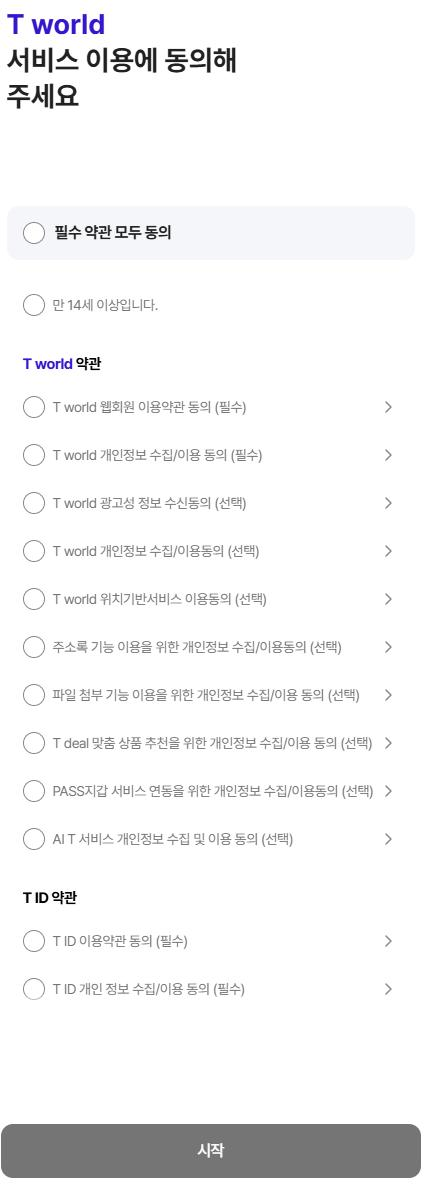button: (2, 1127, 417, 1177)
checkbox: (15, 773, 380, 810), (22, 820, 308, 862), (22, 725, 380, 757), (20, 630, 345, 660), (22, 678, 357, 705), (15, 580, 278, 608), (18, 532, 262, 562), (17, 970, 245, 1000), (22, 287, 182, 327), (17, 487, 263, 513), (10, 925, 202, 957), (18, 445, 262, 470), (17, 392, 255, 413), (12, 217, 195, 243)
